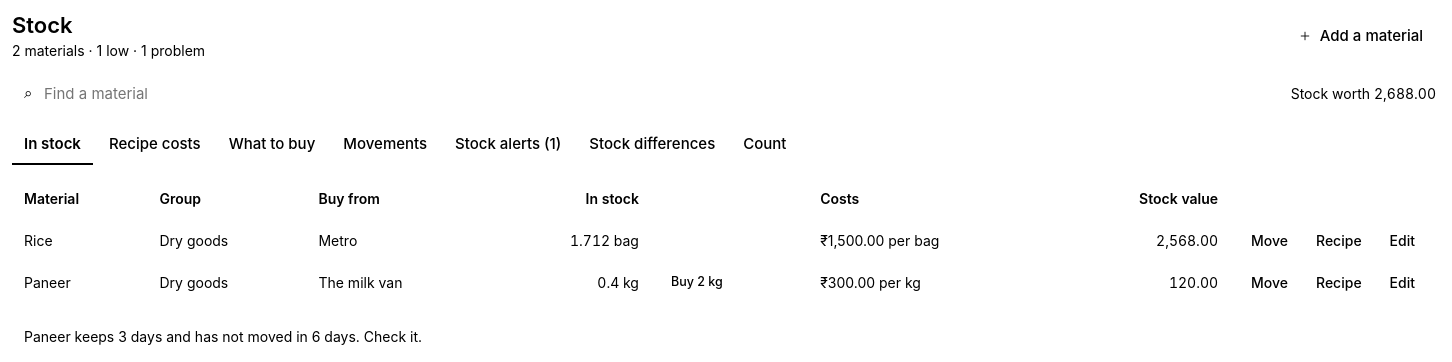
Test case: the stock screen › shows a problem as the whole sentence Rust wrote
Click the tab "Stock alerts (1)".
click(508, 146)  # box [443,126,573,164]
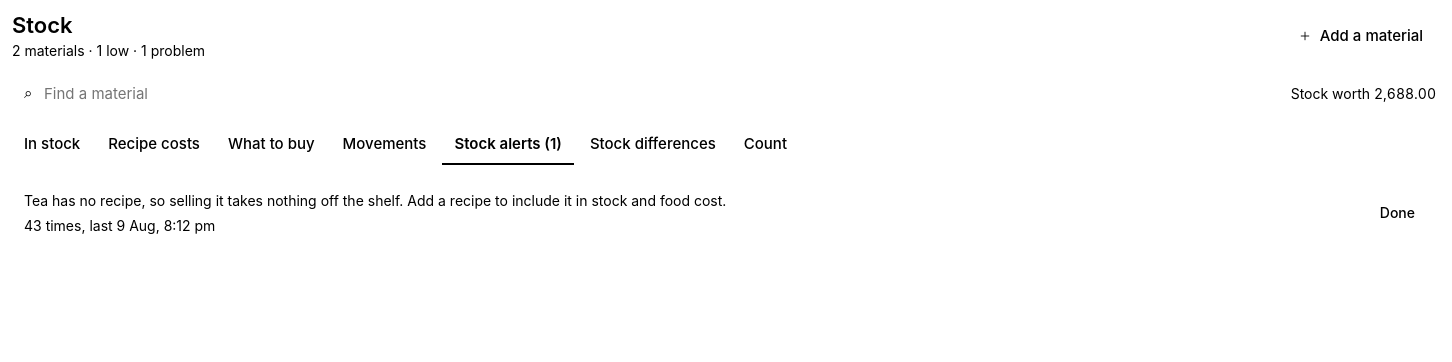
Check: the text "Tea has no recipe, so selling it takes nothing off the shelf" is shown, box [24,192,726,208]
Check: the text "43 times, last 9 Aug, 8:12 pm" is shown, box [24,216,215,234]
